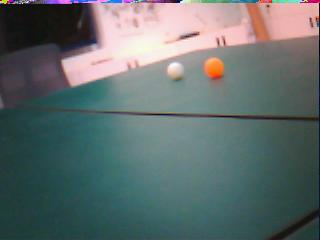oball: (204, 57, 224, 77)
